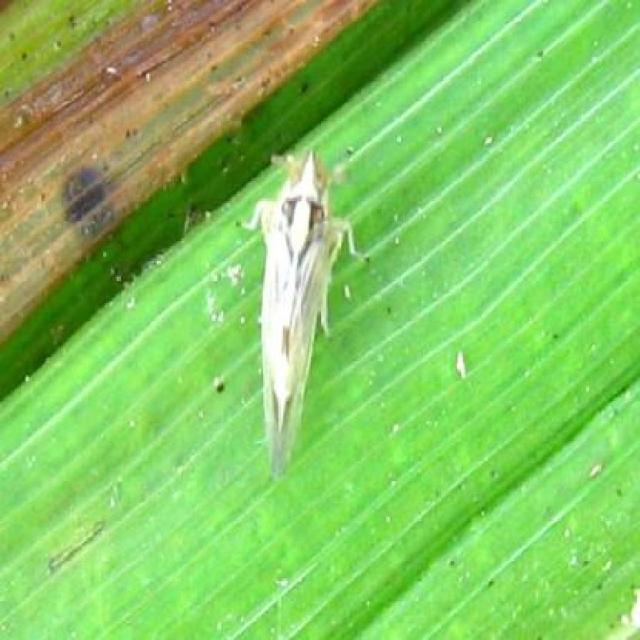brown-planthopper: (260, 150, 328, 472)
